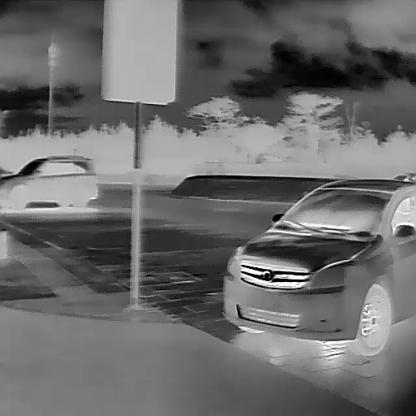car: (223, 176, 415, 356), (0, 153, 99, 213)
